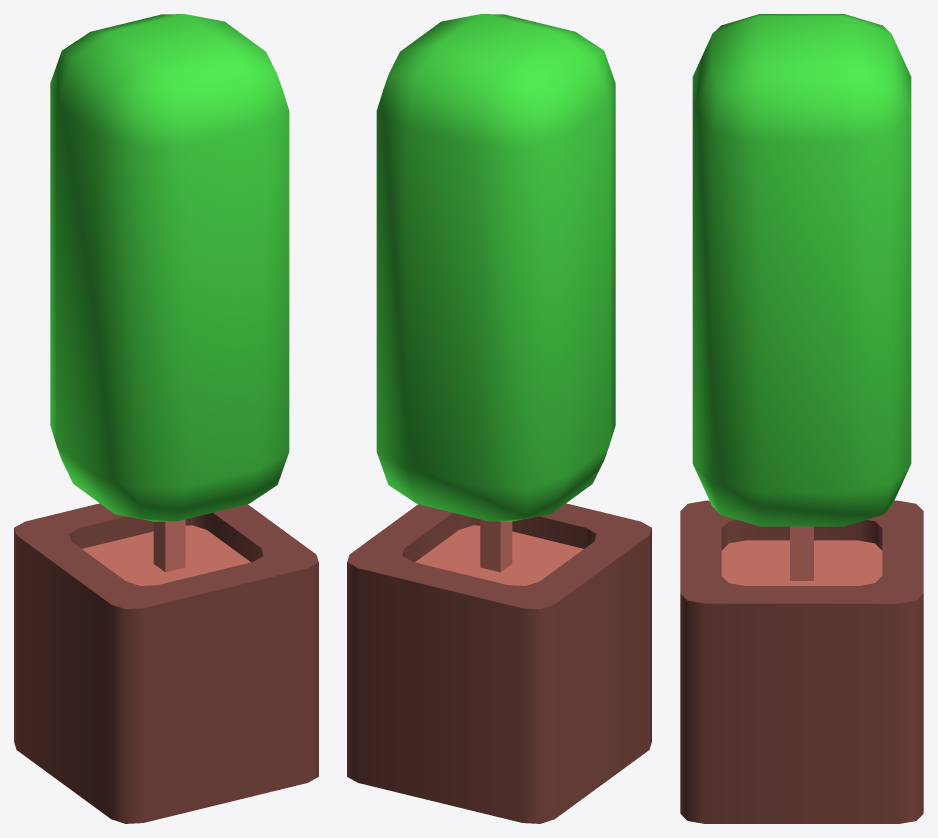
The model's file is Plant.fbx.
3 renders of one model, left to right at view 1: azimuth 30°, elevation 25°; view 2: azimuth 150°, elevation 25°; view 3: azimuth 270°, elevation 25°, orthographic. The views are drawn at different scales.
Parts seen in each view (by area): view 1: Cube.009; view 2: Cube.009; view 3: Cube.009.
Boxes of the visible parts, <box> form: Cube.009: <box>14,14,318,823</box>; Cube.009: <box>347,14,651,823</box>; Cube.009: <box>680,14,923,823</box>.
Bounding box in the file's own units: 141 × 473 × 141.
